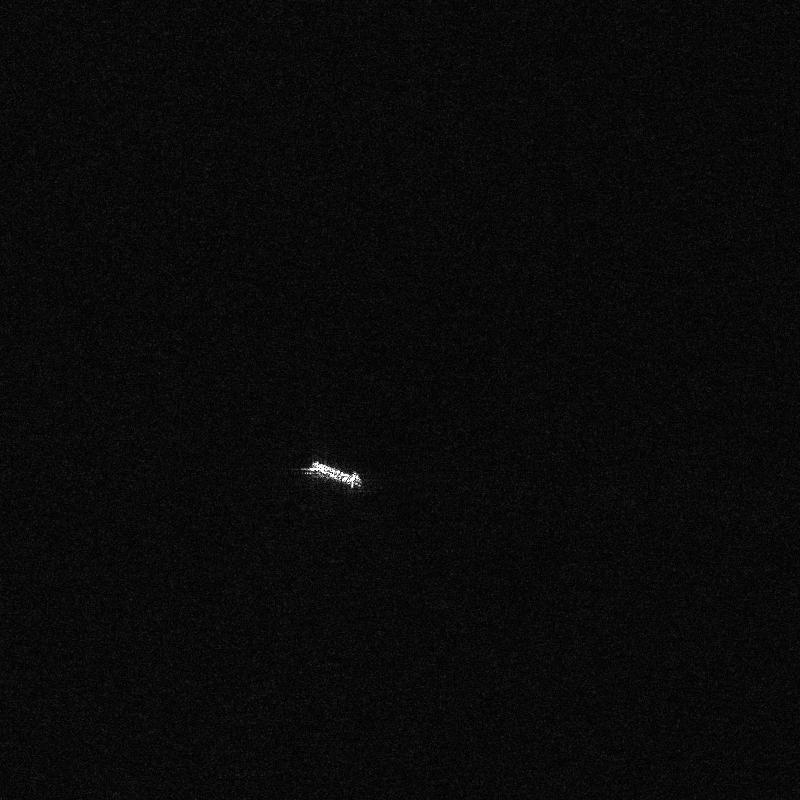ship: (309, 461, 362, 488)
